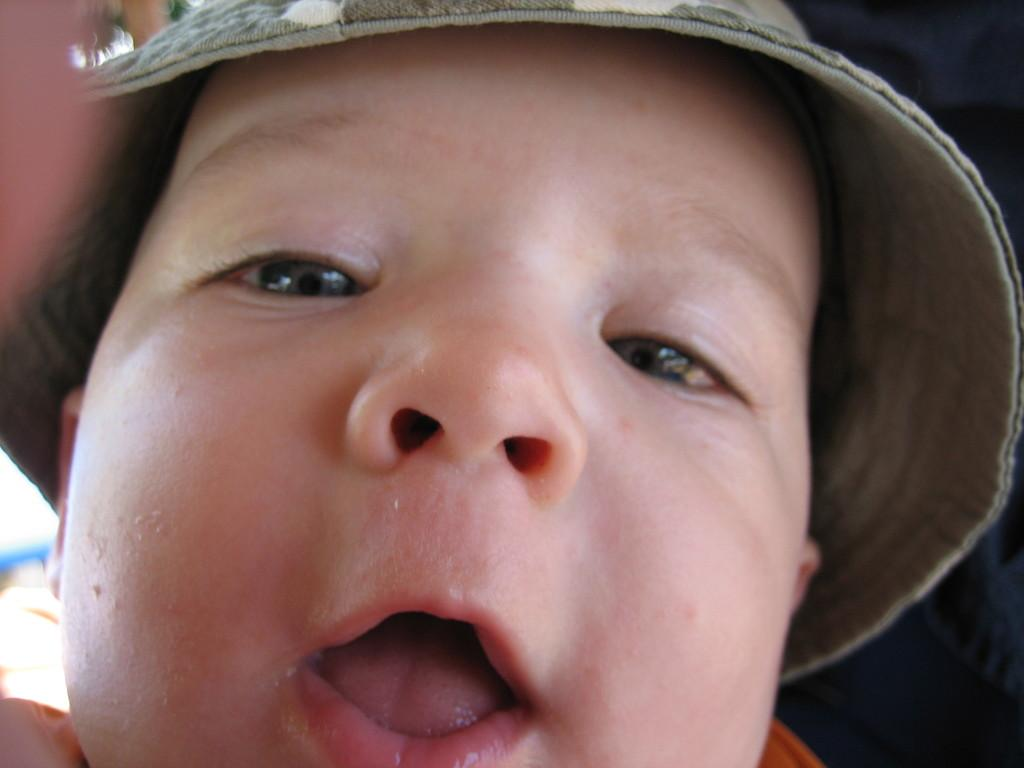Hat: (0, 0, 1023, 685)
